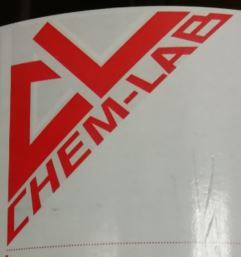ChemLab: (4, 10, 235, 248)
